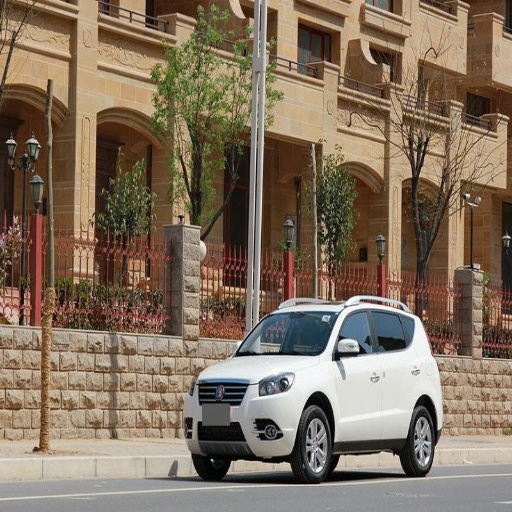front_bumper: (188, 382, 304, 459)
front_glass: (235, 311, 335, 355)
front_left_door: (333, 306, 381, 439)
